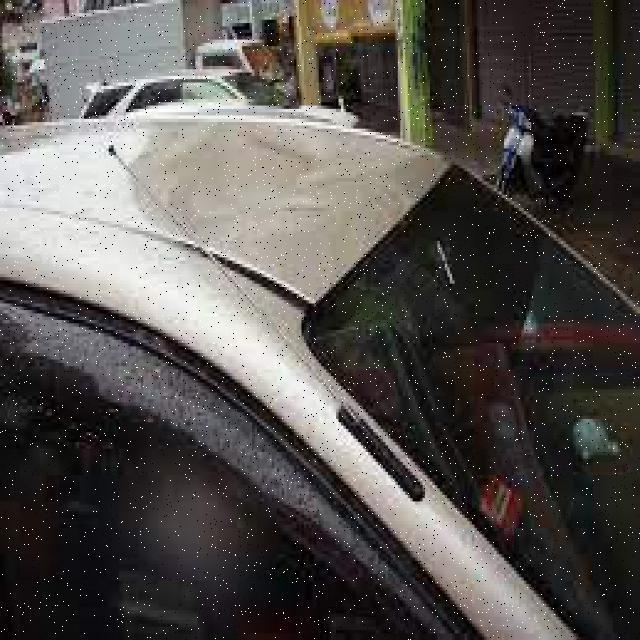roof-dent: (2, 106, 435, 350)
